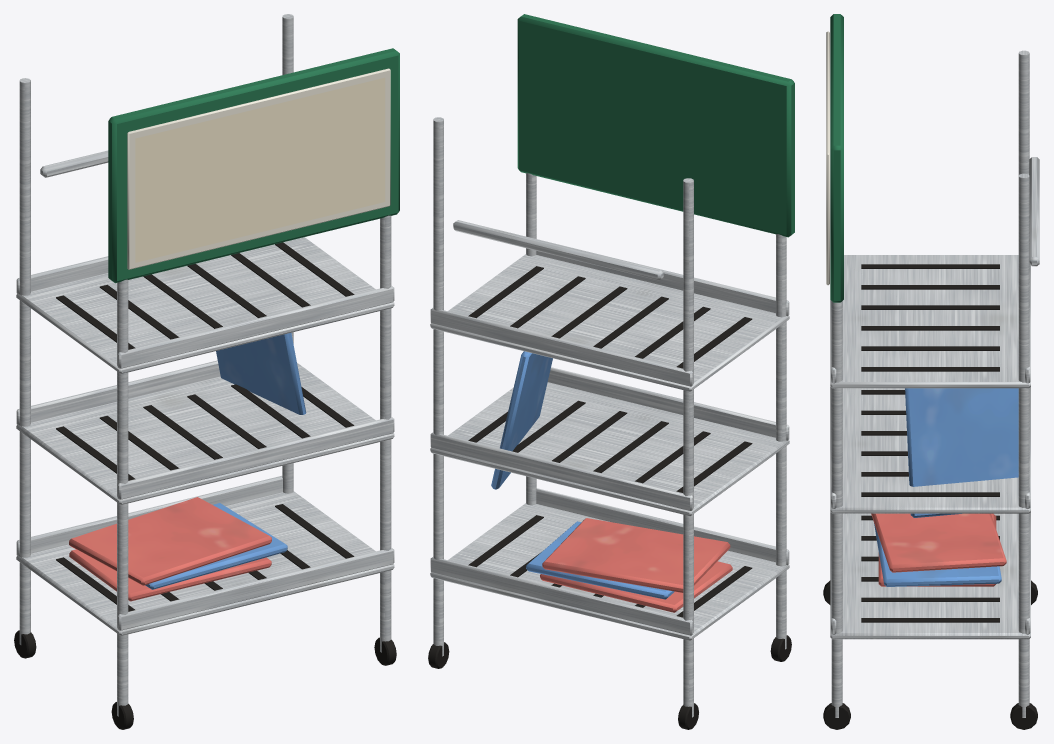
Rendered from tray_return_rack.glb.
3 views of the same model, side by side, from view 1: azimuth 30°, elevation 25°; view 2: azimuth 150°, elevation 25°; view 3: azimuth 270°, elevation 25° (orthographic). The views are drawn at different scales.
Visible parts, largest first — view 1: tray_return_rack__steel_brushed, SIGN_tray, tray_return_rack__paint_green, tray_return_rack__plastic_red, tray_return_rack__rubber_black, tray_return_rack__plastic_blue, tray_return_rack__paint_white; view 2: tray_return_rack__steel_brushed, tray_return_rack__paint_green, tray_return_rack__plastic_red, tray_return_rack__rubber_black, tray_return_rack__plastic_blue; view 3: tray_return_rack__steel_brushed, tray_return_rack__plastic_blue, tray_return_rack__rubber_black, tray_return_rack__plastic_red, tray_return_rack__paint_green, tray_return_rack__paint_white.
Boxes of the visible parts, box(x1,y1,x2,y2) form: tray_return_rack__steel_brushed: box(16, 14, 394, 716); SIGN_tray: box(135, 77, 385, 262); tray_return_rack__paint_green: box(108, 48, 399, 283); tray_return_rack__plastic_red: box(69, 497, 271, 601); tray_return_rack__rubber_black: box(14, 242, 396, 729); tray_return_rack__plastic_blue: box(145, 333, 306, 589); tray_return_rack__paint_white: box(127, 68, 390, 269); tray_return_rack__steel_brushed: box(430, 117, 789, 717); tray_return_rack__paint_green: box(517, 14, 794, 237); tray_return_rack__plastic_red: box(540, 518, 732, 612); tray_return_rack__rubber_black: box(428, 266, 791, 729); tray_return_rack__plastic_blue: box(491, 351, 674, 599); tray_return_rack__steel_brushed: box(830, 50, 1039, 717); tray_return_rack__plastic_blue: box(874, 388, 1018, 586); tray_return_rack__rubber_black: box(823, 264, 1037, 729); tray_return_rack__plastic_red: box(871, 513, 1006, 586); tray_return_rack__paint_green: box(830, 14, 843, 302); tray_return_rack__paint_white: box(826, 31, 829, 285).
Bounding box in the file's own units: 0.92 × 1.87 × 0.625.
7 materials, 3 textured.
